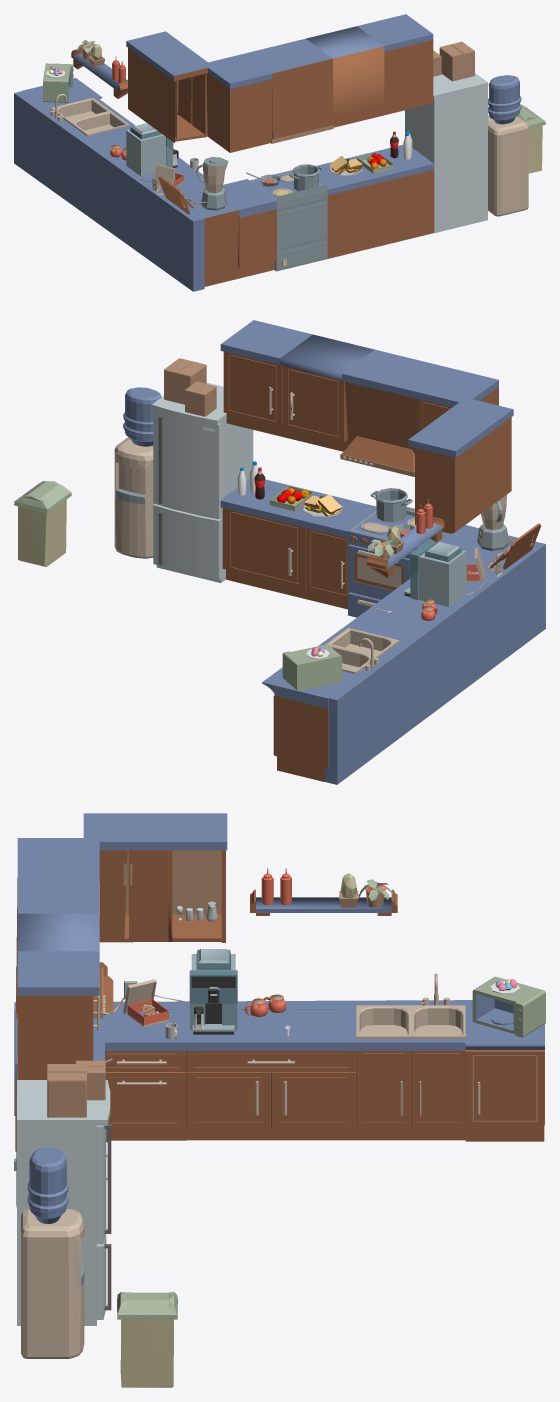
File: kitchen_NEWVERSION2.fbx
3 views of the same model, one above another, from view 1: azimuth 30°, elevation 25°; view 2: azimuth 150°, elevation 25°; view 3: azimuth 270°, elevation 25° (orthographic). The views are drawn at different scales.
Visible parts, largest first — view 1: long_blue_thing, fridge_001, desk_1_alternative, Prop_KitchenCabinet_02_F, Cube, Prop_KitchenCabinet_02_F__1___2_, Prop_WaterDispenser, Prop_KitchenCabinet_02_F__1___1__1, Prop_KitchenCabinet_02_F__1___1_, Stove, Prop_KitchenCabinet_02_E, Prop_KitchenCabinet_02_F__1_ (+14 smaller); view 2: long_blue_thing, fridge_001, desk_1_alternative, Prop_KitchenCabinet_02_F, Prop_KitchenCabinet_02_F__1___1__1, Cube, Prop_KitchenCabinet_02_F__1___1_, Prop_WaterDispenser, Prop_KitchenCabinet_02_E__1_, Prop_KitchenCabinet_02_F__1_, Prop_TrashCan_04, Stove (+14 smaller); view 3: Prop_KitchenCabinet_02_I, desk_1_alternative, Prop_KitchenSink, fridge_001, Prop_WaterDispenser, Prop_KitchenCabinet_02_H, Prop_KitchenCabinet_02_F__1___1_, Prop_KitchenCabinet_02_E__1_, Prop_TrashCan_04, coffee_machine_001, Cube, Prop_KitchenCabinet_02_F__1___1__1 (+7 smaller).
Boxes of the visible parts, bbox=[...] form: long_blue_thing: bbox=[14, 90, 204, 291]; fridge_001: bbox=[405, 73, 488, 232]; desk_1_alternative: bbox=[126, 31, 207, 142]; Prop_KitchenCabinet_02_F: bbox=[345, 145, 434, 249]; Cube: bbox=[245, 38, 333, 139]; Prop_KitchenCabinet_02_F__1___2_: bbox=[203, 53, 271, 152]; Prop_WaterDispenser: bbox=[488, 75, 528, 216]; Prop_KitchenCabinet_02_F__1___1__1: bbox=[306, 26, 384, 127]; Prop_KitchenCabinet_02_F__1___1_: bbox=[357, 14, 433, 115]; Stove: bbox=[250, 170, 327, 271]; Prop_KitchenCabinet_02_E: bbox=[222, 179, 276, 278]; Prop_KitchenCabinet_02_F__1_: bbox=[316, 162, 364, 258]; long_blue_thing: bbox=[324, 541, 545, 784]; fridge_001: bbox=[151, 382, 253, 582]; desk_1_alternative: bbox=[408, 399, 513, 533]; Prop_KitchenCabinet_02_F: bbox=[220, 479, 336, 599]; Prop_KitchenCabinet_02_F__1___1__1: bbox=[280, 334, 374, 451]; Cube: bbox=[342, 349, 447, 453]; Prop_KitchenCabinet_02_F__1___1_: bbox=[220, 320, 312, 437]; Prop_WaterDispenser: bbox=[114, 387, 161, 558]; Prop_KitchenCabinet_02_E__1_: bbox=[262, 667, 359, 781]; Prop_KitchenCabinet_02_F__1_: bbox=[303, 497, 376, 609]; Prop_TrashCan_04: bbox=[14, 481, 71, 566]; Stove: bbox=[348, 507, 416, 617]; Prop_KitchenCabinet_02_I: bbox=[186, 1009, 356, 1140]; desk_1_alternative: bbox=[83, 813, 227, 942]; Prop_KitchenSink: bbox=[356, 1005, 465, 1140]; fridge_001: bbox=[17, 1080, 111, 1325]; Prop_WaterDispenser: bbox=[21, 1147, 84, 1358]; Prop_KitchenCabinet_02_H: bbox=[97, 1009, 186, 1140]; Prop_KitchenCabinet_02_F__1___1_: bbox=[17, 951, 99, 1079]; Prop_KitchenCabinet_02_E__1_: bbox=[465, 1005, 544, 1141]; Prop_TrashCan_04: bbox=[117, 1292, 177, 1387]; coffee_machine_001: bbox=[128, 949, 237, 1034]; Cube: bbox=[16, 869, 99, 1012]; Prop_KitchenCabinet_02_F__1___1__1: bbox=[17, 913, 99, 951].
Bounding box in the file's own units: 744 × 364 × 583.
